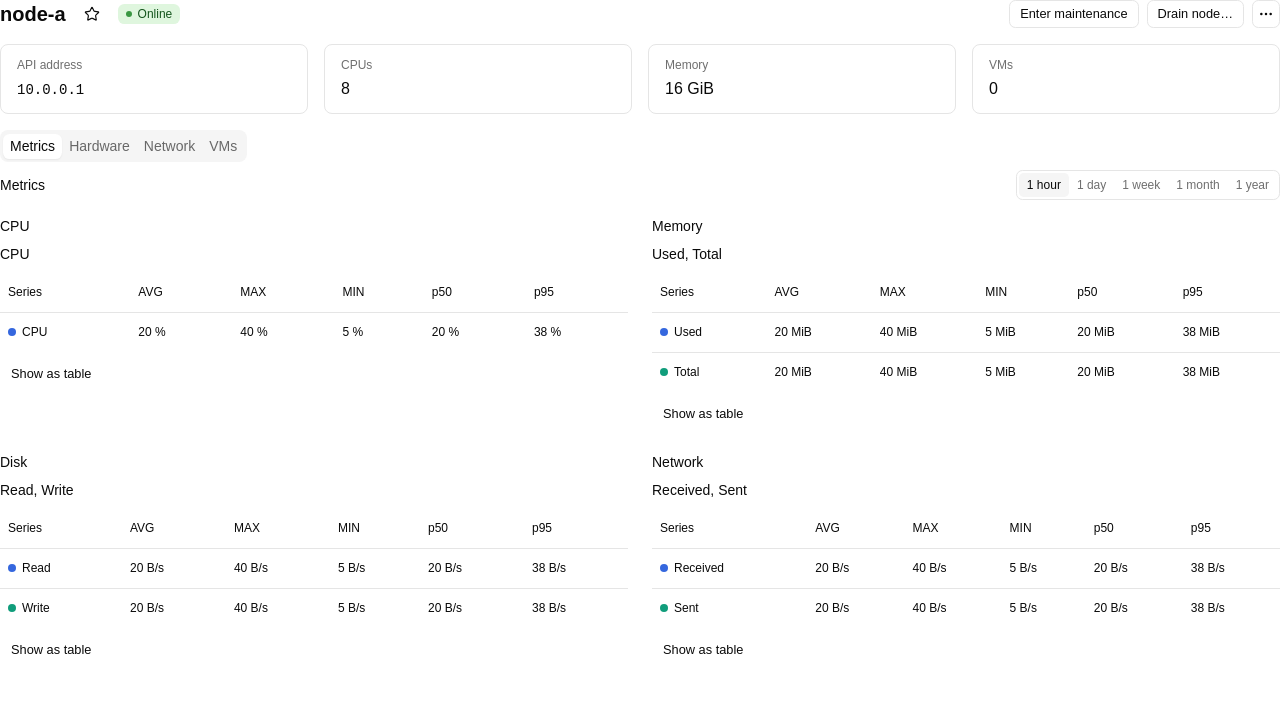
Test: opens the node dialogs from the header menu
What coordinates should you click on to do the following:
click the button named "Actions for node-a"
I would click on:
 (1266, 14)
Its box is [1252,0,1279,28].
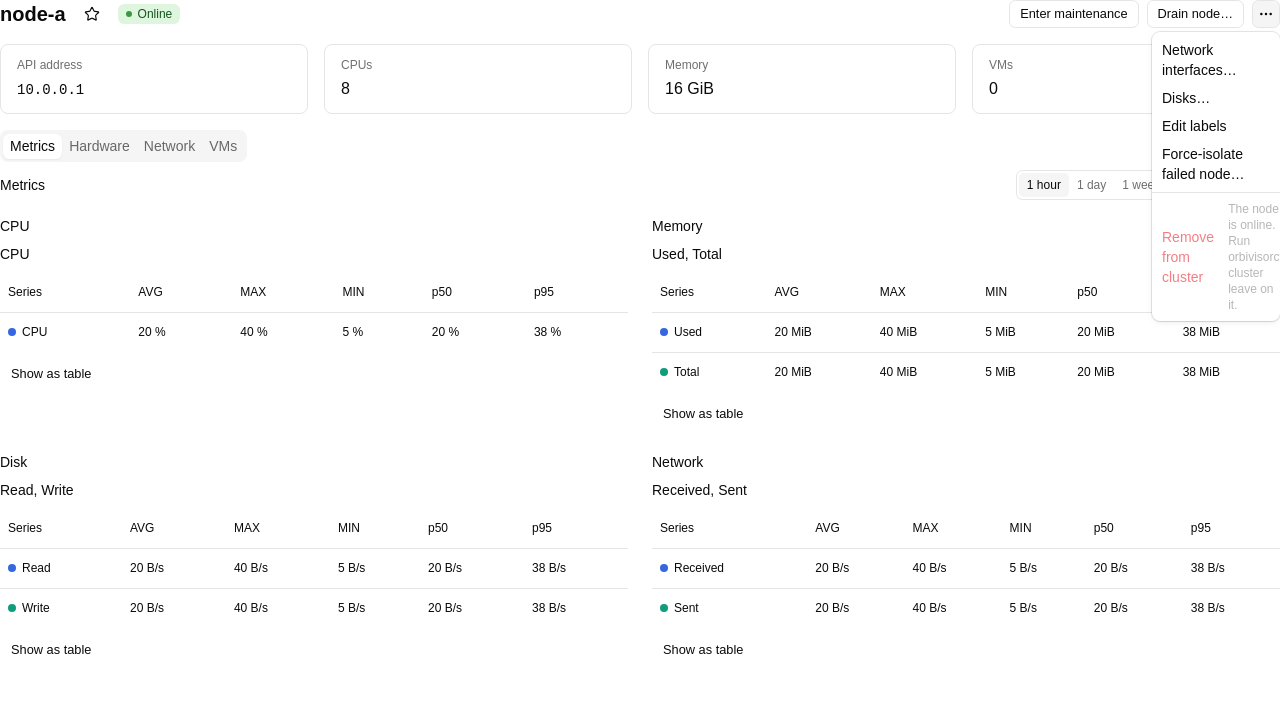
What coordinates should you click on to do the following:
click the menu item "Network interfaces…"
I would click on:
 (1199, 60)
Its box is [1162,42,1237,78].
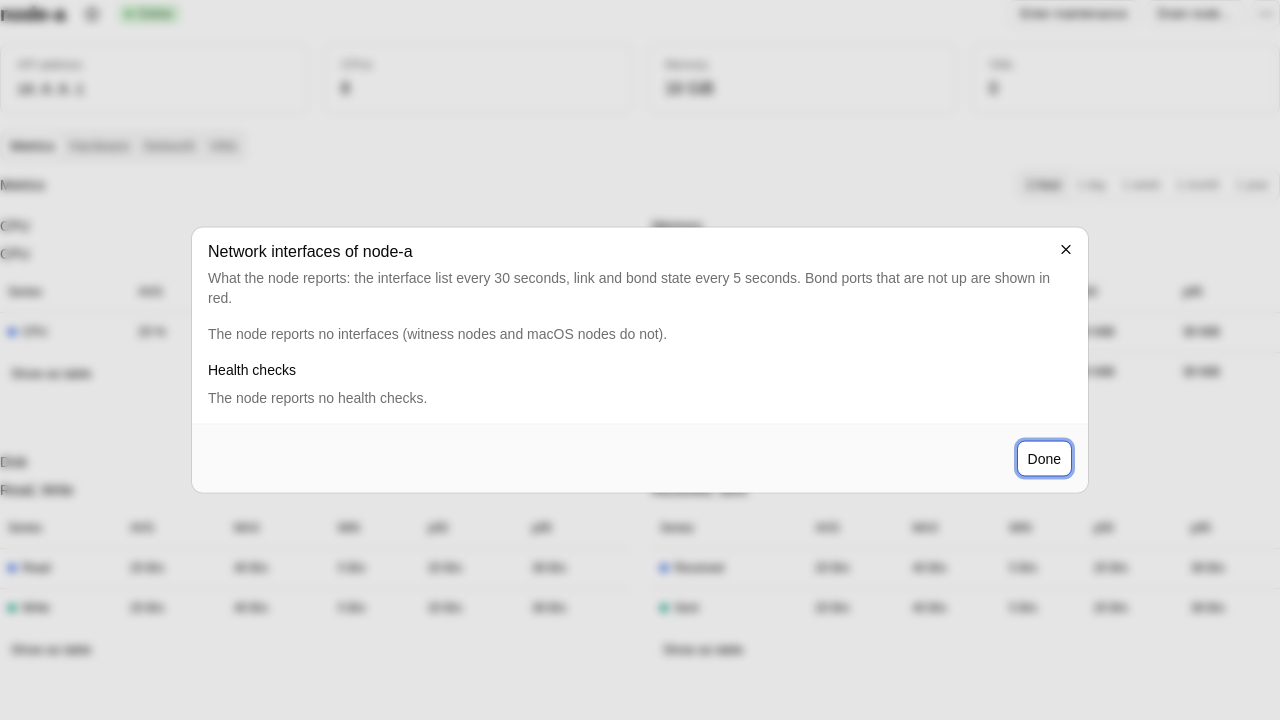
expect the dialog "Network interfaces of node-a" is shown: met, box [192,228,1088,492]
